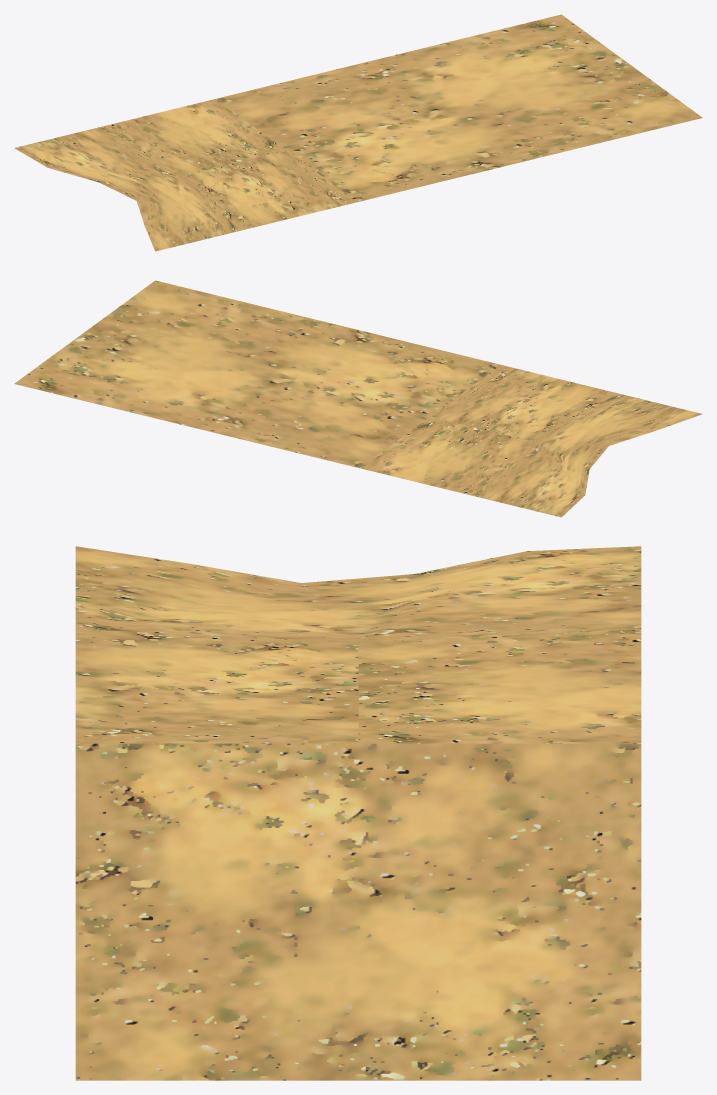
Rendered from us_cany_far_01.fbx.
The picture shows the model from 3 angles, top to bottom: view 1: azimuth 30°, elevation 25°; view 2: azimuth 150°, elevation 25°; view 3: azimuth 270°, elevation 25°; orthographic projection. The views are drawn at different scales.
Parts seen in each view (by area): view 1: us_cany_far_01; view 2: us_cany_far_01; view 3: us_cany_far_01.
Part boxes in pixels (bbox=[...]): us_cany_far_01: bbox=[14, 14, 702, 251]; us_cany_far_01: bbox=[14, 280, 702, 517]; us_cany_far_01: bbox=[75, 546, 641, 1080].
Bounding box in the file's own units: 22367 × 6.1e-05 × 10000.
